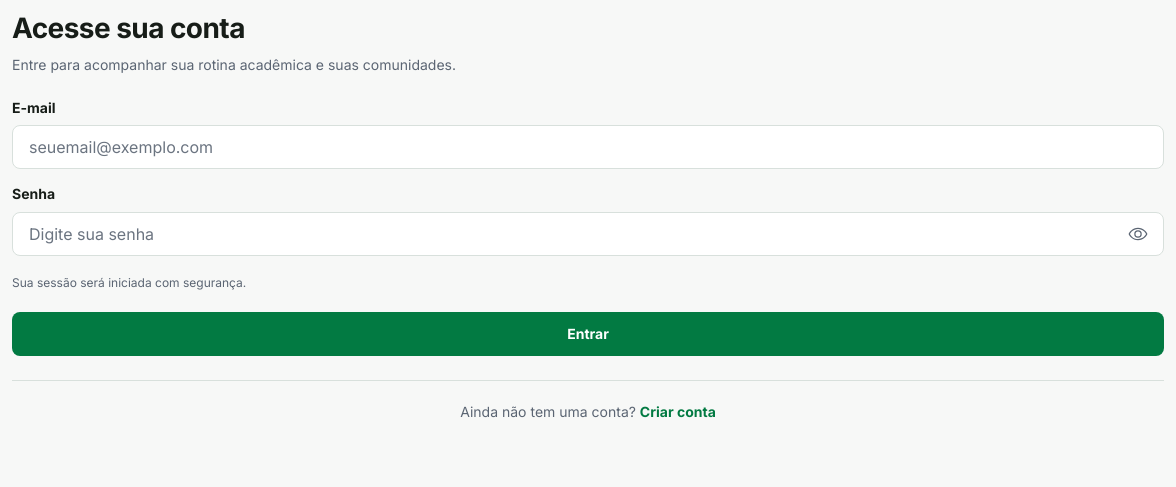
LoginForm › exibe erros de validação ao tentar submeter formulário em branco
The image size is (1176, 487).
Step 1. Click the button "Entrar" → (588, 334), box [12,312,1164,356]
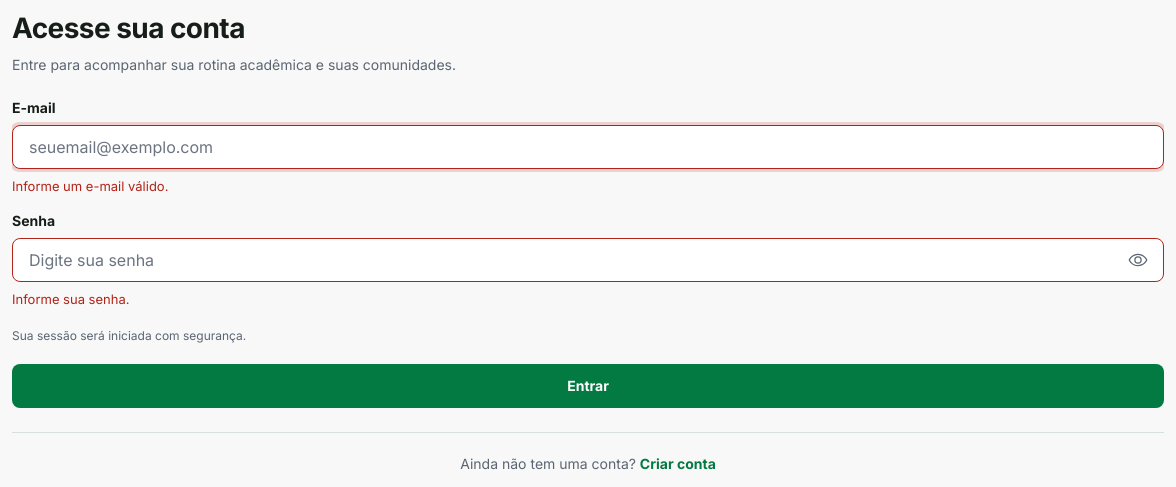
Check: the text "Informe um e-mail válido." is shown, box [12,178,168,194]
Check: the text "Informe sua senha." is shown, box [12,291,130,307]
